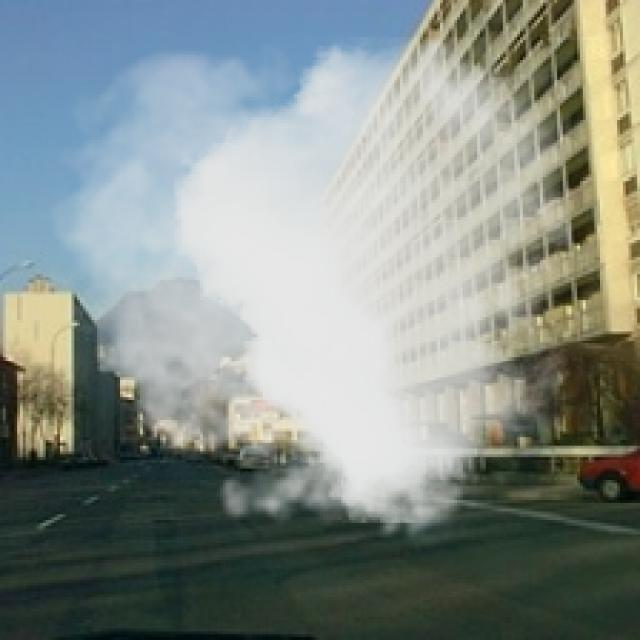Smoke: (34, 37, 572, 554)
